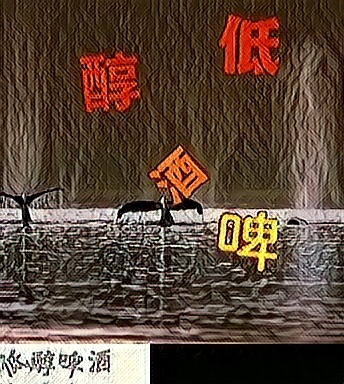B4BC: (78, 49, 139, 114)
B5CD: (218, 9, 279, 74)
BEC6: (148, 145, 209, 210)
C6A1: (218, 208, 279, 273)
